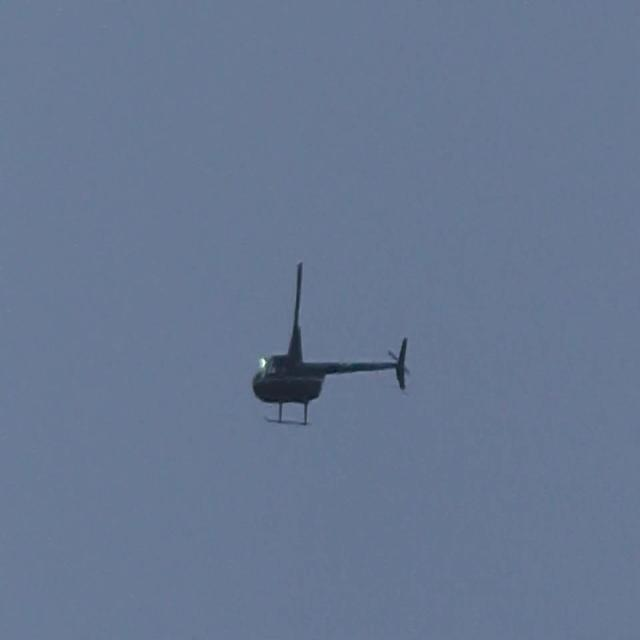CIV_HELO: (252, 324, 412, 429)
